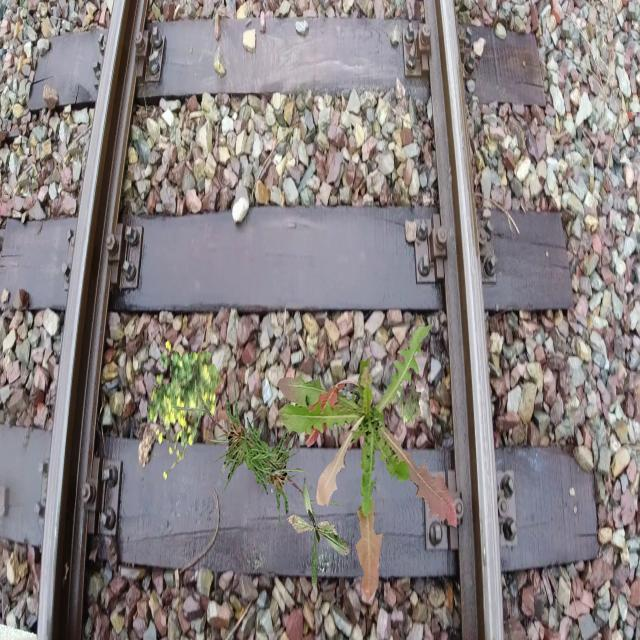Plant: (277, 324, 457, 602), (172, 376, 316, 496), (199, 417, 342, 536), (147, 340, 222, 480), (287, 477, 351, 589), (396, 385, 422, 428)
